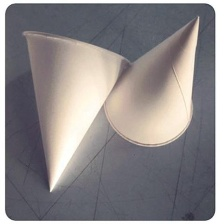paper_cup: (18, 24, 135, 198), (98, 10, 205, 152)
